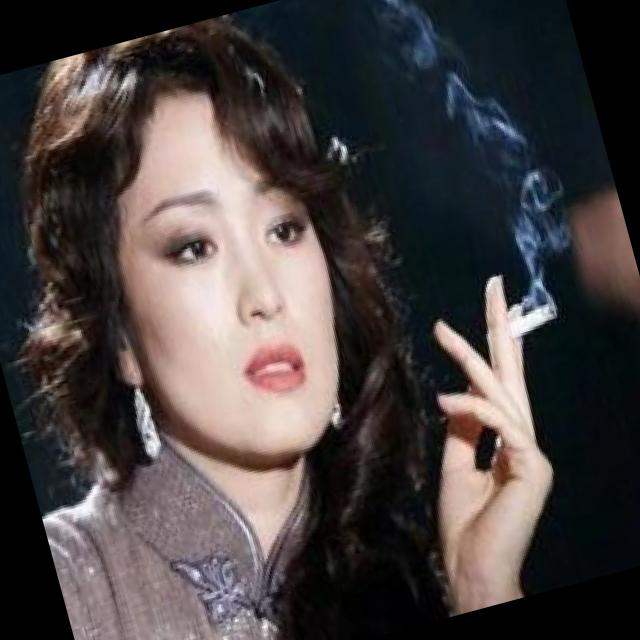cigarette: (488, 291, 570, 365)
